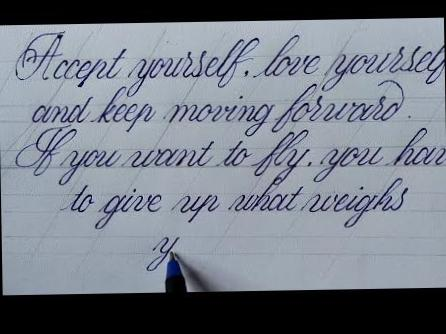text: (12, 20, 444, 100), (12, 116, 446, 191), (28, 76, 412, 143), (59, 173, 412, 236), (144, 234, 182, 273)
